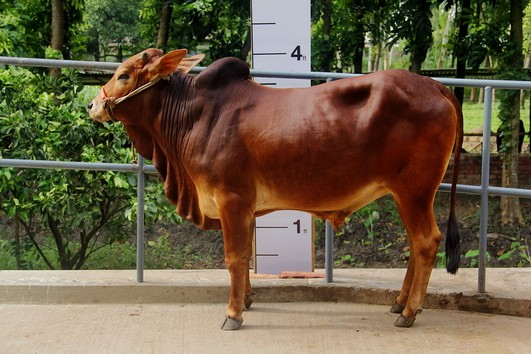cow: (82, 43, 470, 343)
